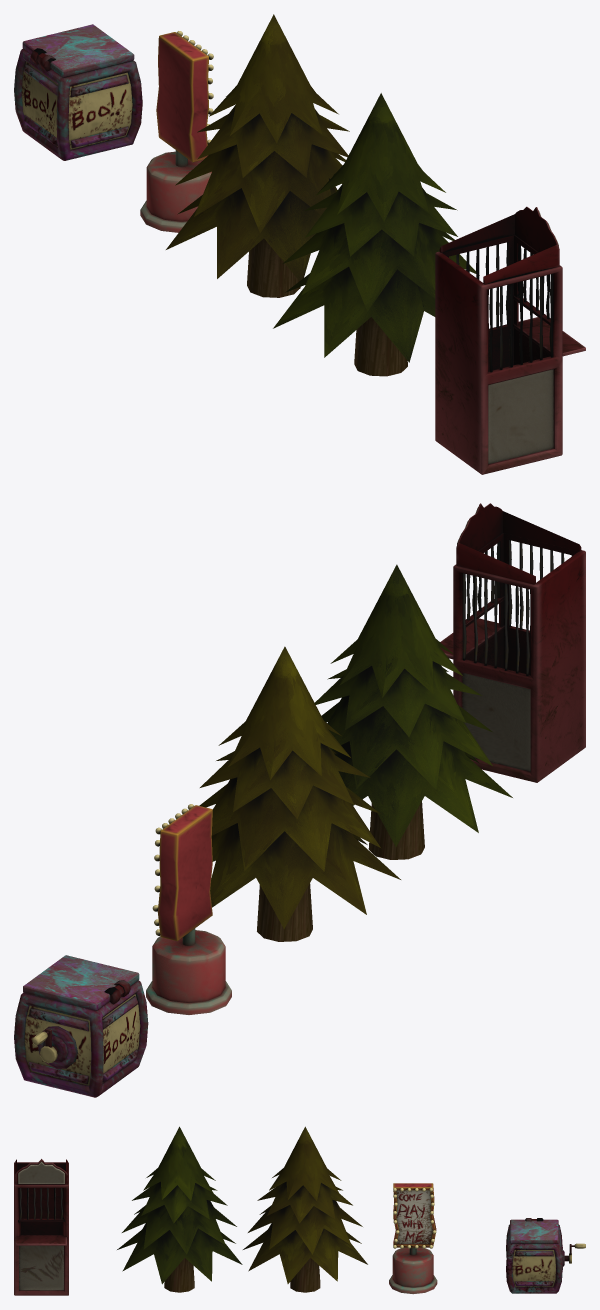
File: props 1.fbx
3 views of the same model, one above another, from view 1: azimuth 30°, elevation 25°; view 2: azimuth 150°, elevation 25°; view 3: azimuth 270°, elevation 25° (orthographic). The views are drawn at different scales.
Visible parts, largest first — view 1: ticket_booth, tree_1, tree_2, jack_in_the_box, sign_1; view 2: tree_2, ticket_booth, tree_1, jack_in_the_box, sign_1; view 3: tree_1, tree_2, ticket_booth, sign_1, jack_in_the_box.
Boxes of the visible parts, x1,y1,x2,y2 form: ticket_booth: (435, 206, 585, 474); tree_1: (273, 93, 479, 376); tree_2: (166, 14, 349, 297); jack_in_the_box: (14, 24, 142, 160); sign_1: (140, 31, 213, 232); tree_2: (199, 646, 400, 941); ticket_booth: (440, 503, 585, 782); tree_1: (315, 564, 512, 859); jack_in_the_box: (14, 955, 148, 1097); sign_1: (146, 804, 231, 1014); tree_1: (117, 1126, 242, 1292); tree_2: (243, 1126, 367, 1292); ticket_booth: (14, 1159, 68, 1295); sign_1: (389, 1183, 437, 1294); jack_in_the_box: (506, 1218, 585, 1293).
Size of the model in its own units: 460 by 639 by 2074.
